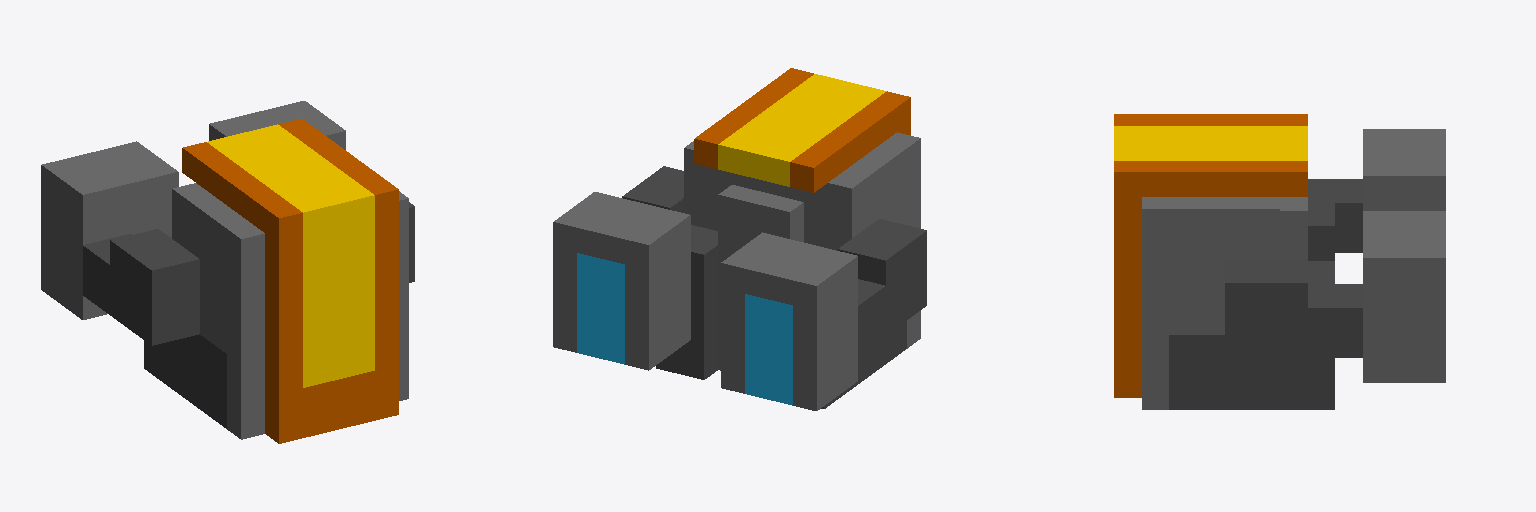
The picture shows the model from 3 angles: view 1: azimuth 30°, elevation 25°; view 2: azimuth 150°, elevation 25°; view 3: azimuth 270°, elevation 25°; orthographic projection.
Size of the model in its own units: 11 by 9 by 12.
Materials: 1 (1 with a texture image).